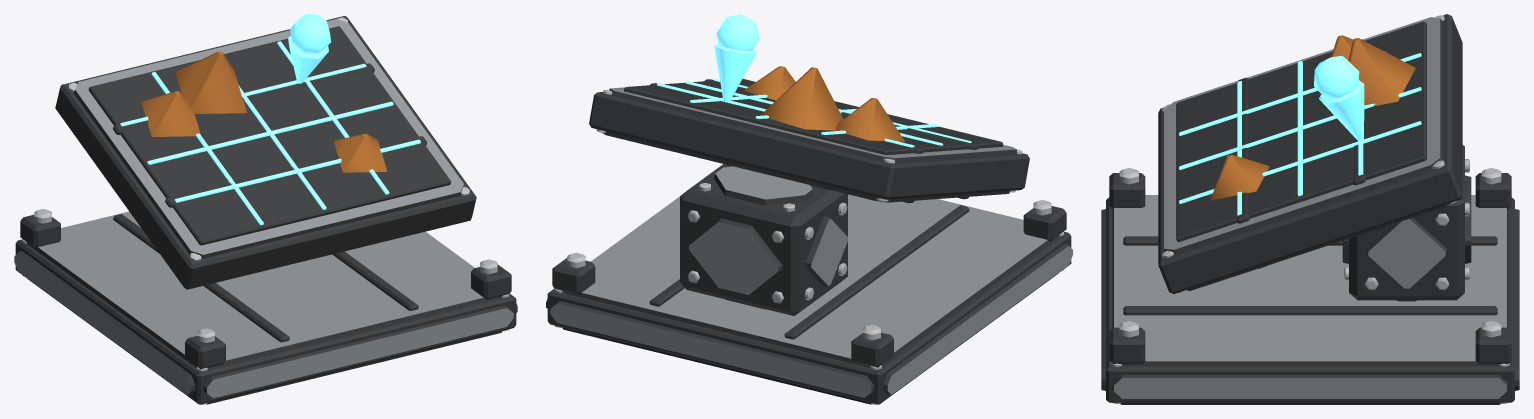
Rendered from R4X_Minimap.fbx.
3 views of the same model, side by side, from view 1: azimuth 30°, elevation 25°; view 2: azimuth 150°, elevation 25°; view 3: azimuth 270°, elevation 25° (orthographic). The views are drawn at different scales.
Parts seen in each view (by area): view 1: R4X_Minimap_Body; view 2: R4X_Minimap_Body; view 3: R4X_Minimap_Body.
Boxes of the visible parts, x1,y1,x2,y2 form: R4X_Minimap_Body: (14,14,517,404); R4X_Minimap_Body: (546,14,1072,404); R4X_Minimap_Body: (1101,14,1519,404).
Bounding box in the file's own units: 0.52 × 0.403 × 0.52.
